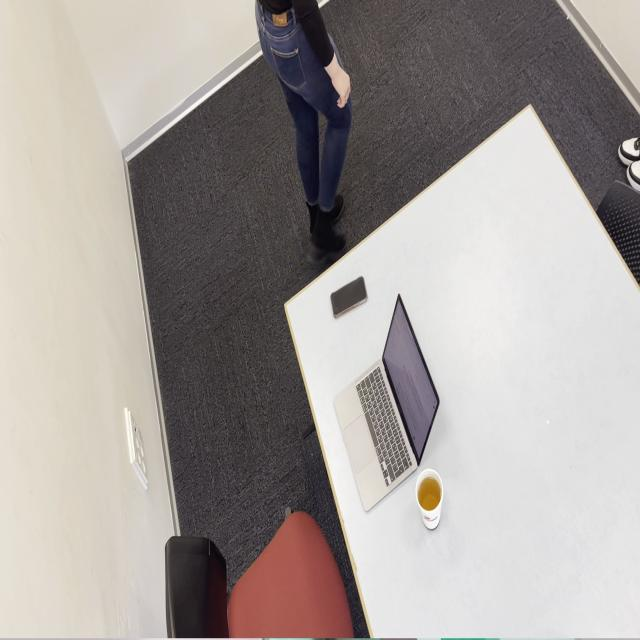bag: (330, 275, 367, 319)
ipad: (253, 0, 352, 261)
laptop: (333, 293, 440, 513)
